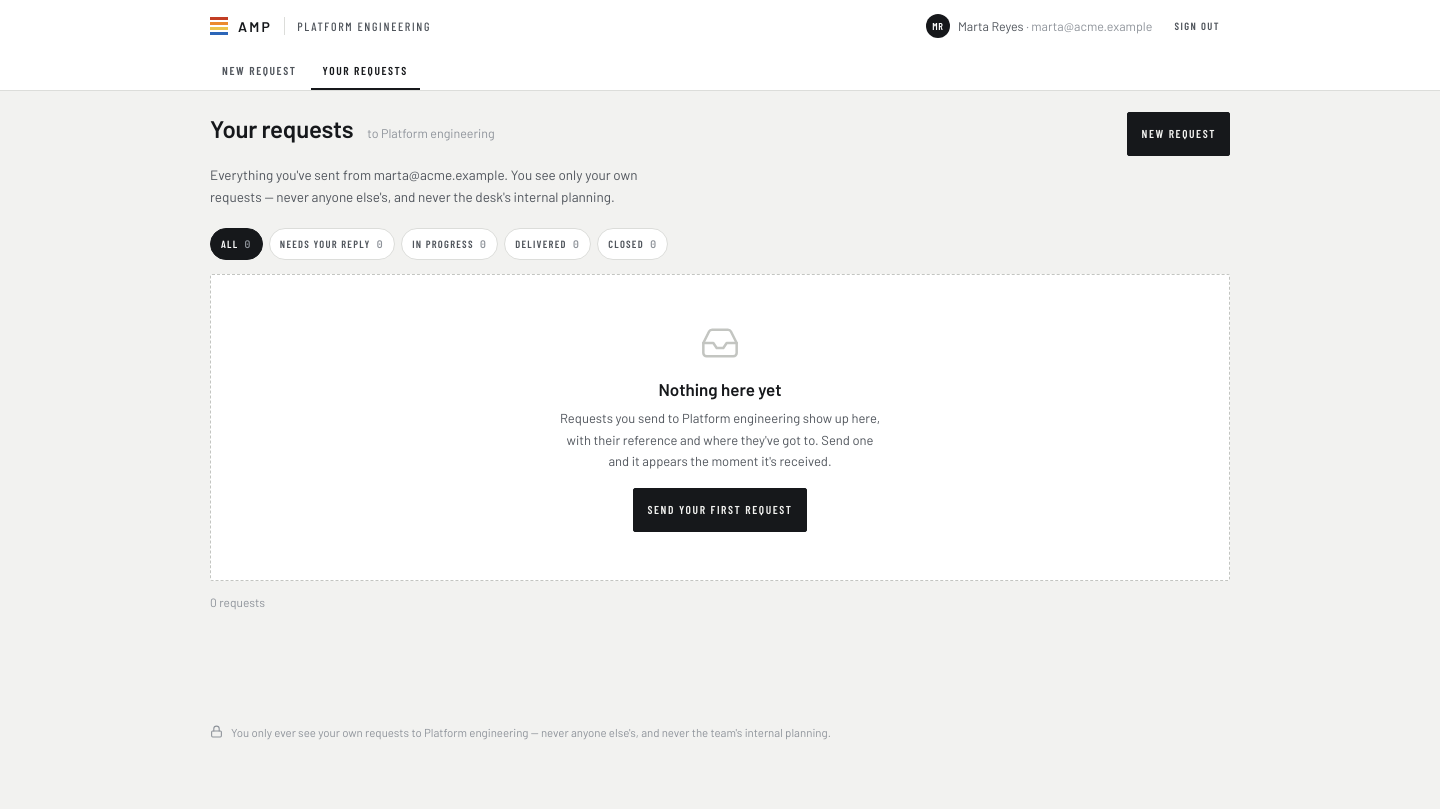
Test: requester deep links › carries the desk on from the list into the form
The image size is (1440, 809).
Expected: the element with id "requester-content" is shown, [190,91,1250,723]
Click the 1st button "New request" at {"x": 259, "y": 71}, box [210,52,308,90]
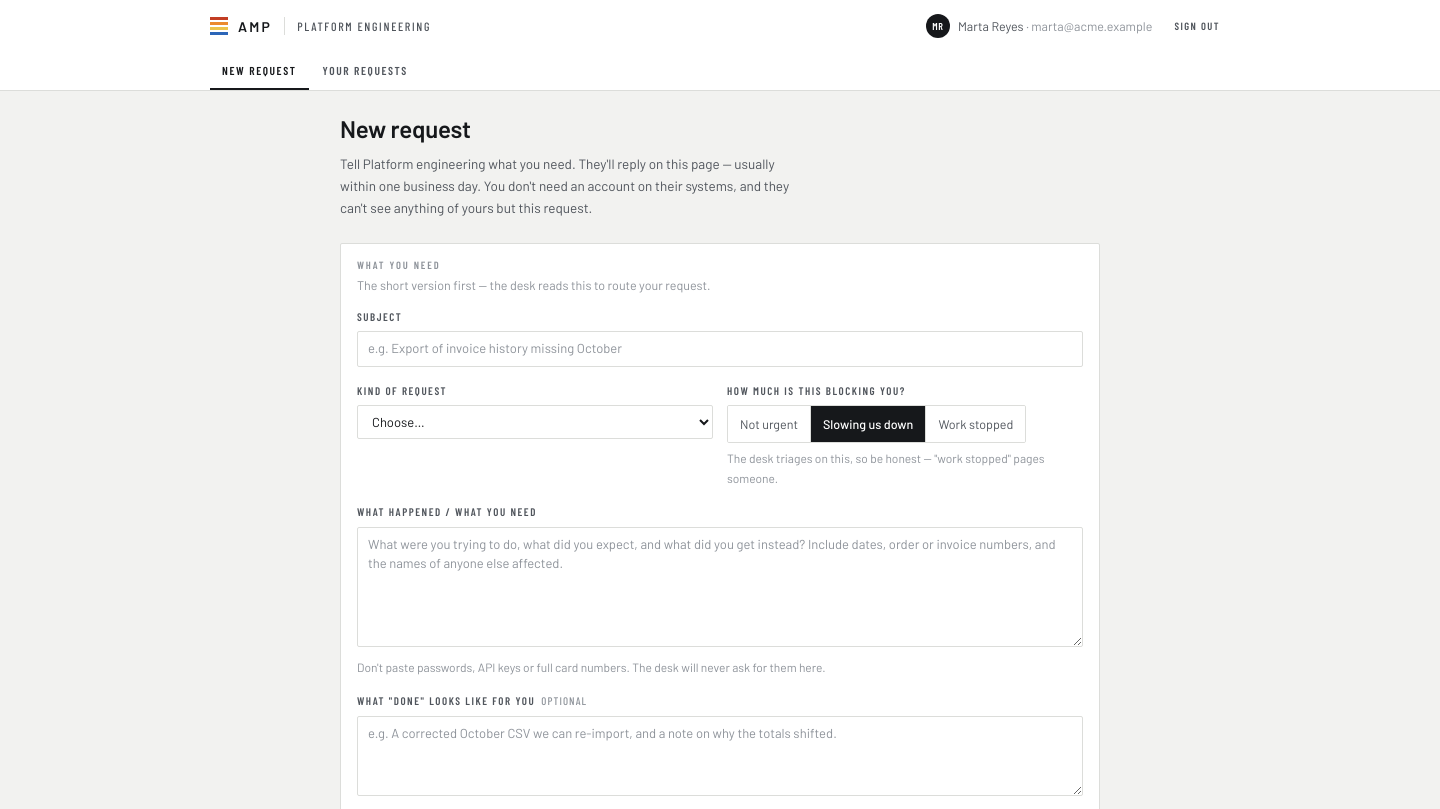
Expected: the heading "New request" is shown, [340,114,471,143]
